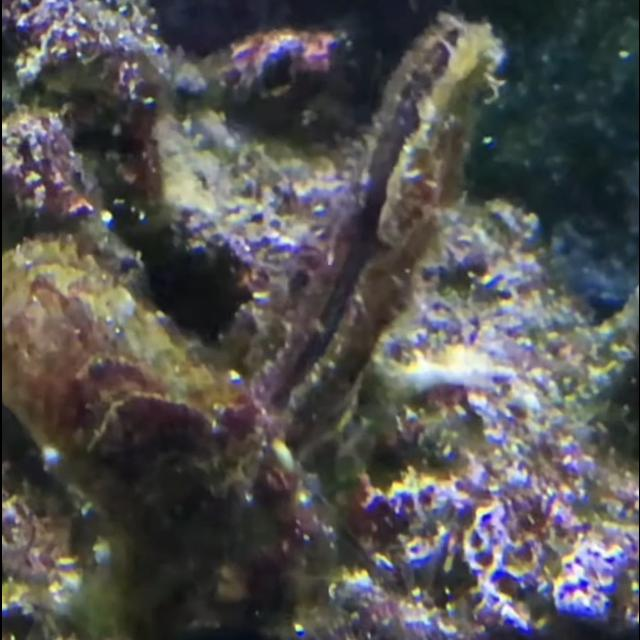Oyster-Indeterminate: (1, 239, 301, 597)
Oyster-Open: (223, 15, 504, 462)
